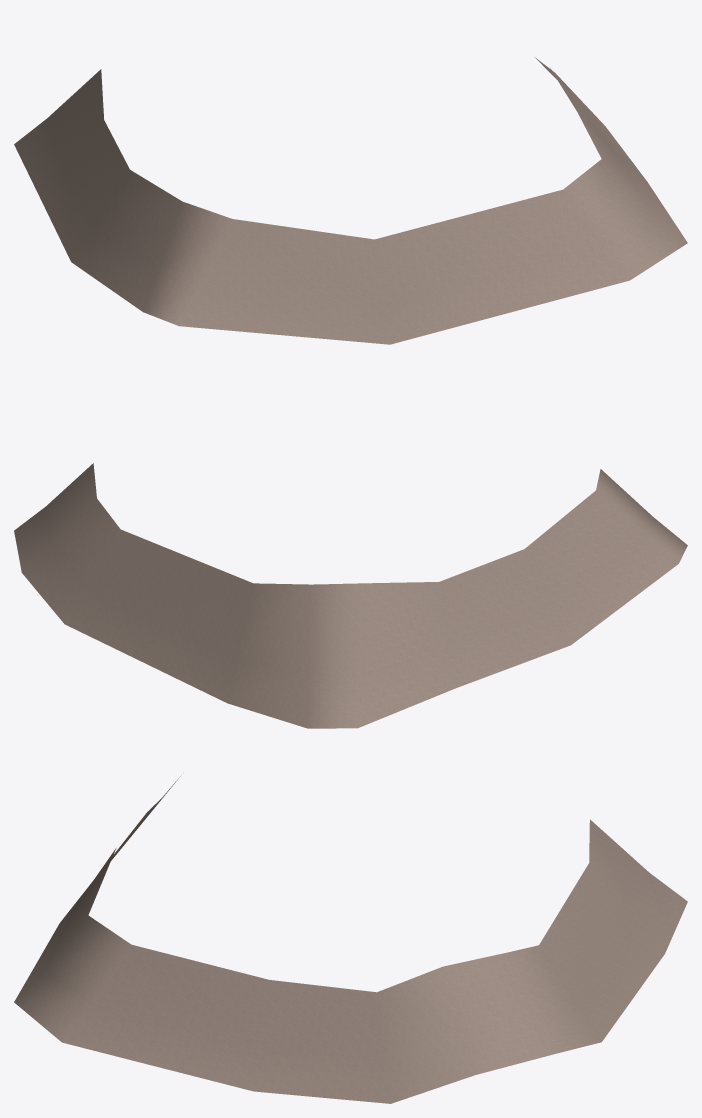
File: kd_stage_1366d7_21_14.glb
3 views of the same model, one above another, from view 1: azimuth 30°, elevation 25°; view 2: azimuth 150°, elevation 25°; view 3: azimuth 270°, elevation 25° (orthographic). The views are drawn at different scales.
Parts seen in each view (by area): view 1: kd_stage_1366d7_21_14; view 2: kd_stage_1366d7_21_14; view 3: kd_stage_1366d7_21_14.
Boxes of the visible parts, box(x1,y1,x2,y2) form: kd_stage_1366d7_21_14: box(14, 57, 687, 344); kd_stage_1366d7_21_14: box(14, 463, 687, 728); kd_stage_1366d7_21_14: box(14, 776, 687, 1103).
Size of the model in its own units: 261 by 49.01 by 269.
1 material, 1 textured.
